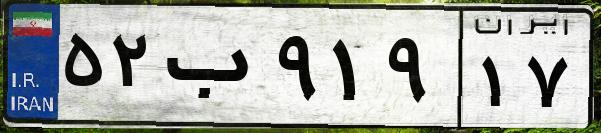1: (330, 28, 385, 110), (475, 38, 525, 113)
2: (110, 28, 158, 98)
5: (57, 26, 110, 100)
7: (525, 38, 570, 115)
9: (270, 28, 330, 110), (385, 28, 445, 110)
ب: (158, 20, 270, 120)
